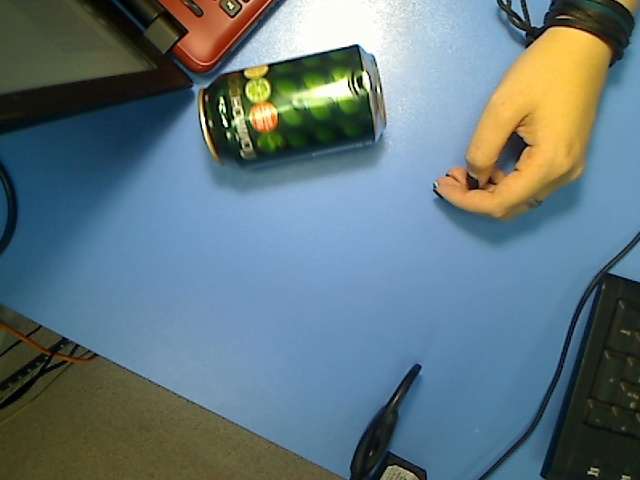can: (195, 43, 389, 172)
